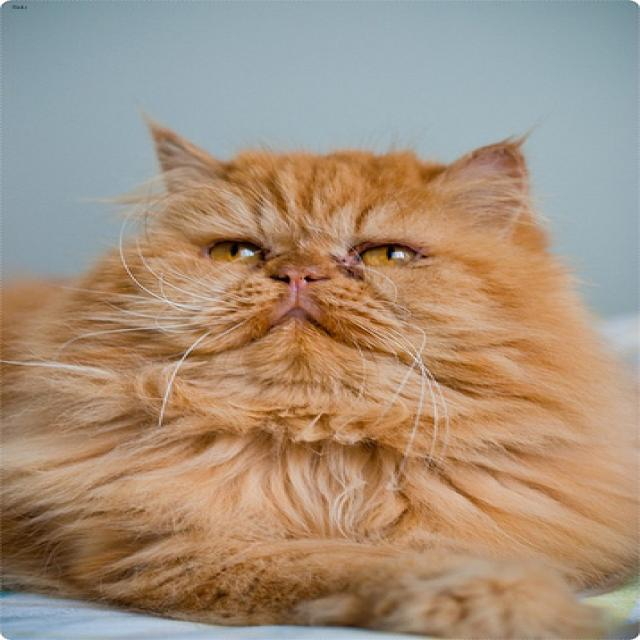cat: (148, 125, 526, 383)
